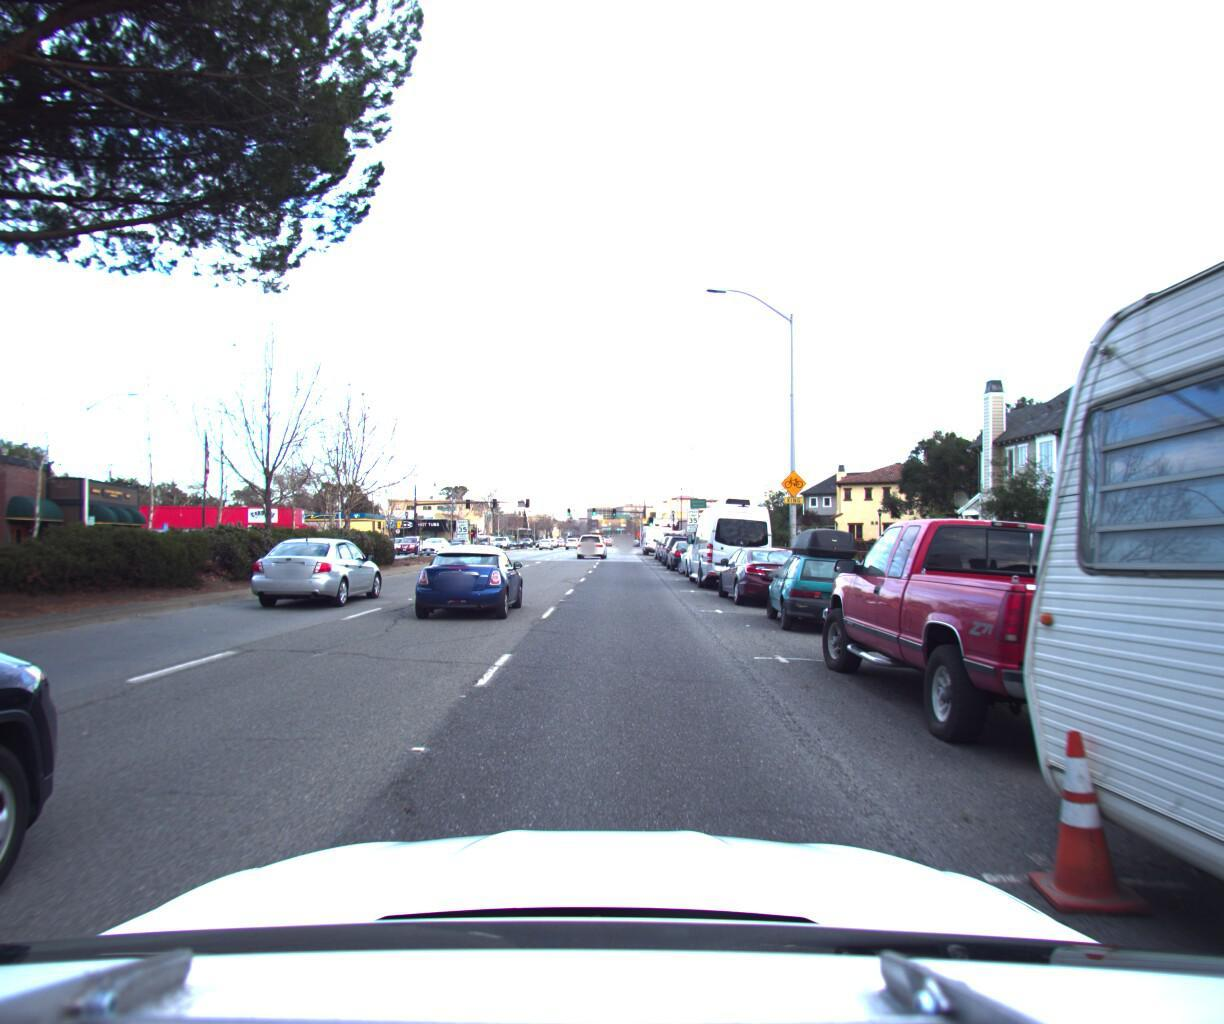car: (809, 507, 1224, 816), (0, 0, 116, 1024), (757, 520, 879, 638), (243, 527, 390, 604), (407, 536, 528, 617), (712, 536, 813, 606), (674, 532, 732, 574), (657, 524, 698, 560), (662, 531, 705, 565), (657, 523, 692, 556), (573, 527, 606, 552), (418, 524, 452, 546)
truck: (681, 491, 774, 589), (652, 519, 686, 553), (639, 513, 671, 548)
